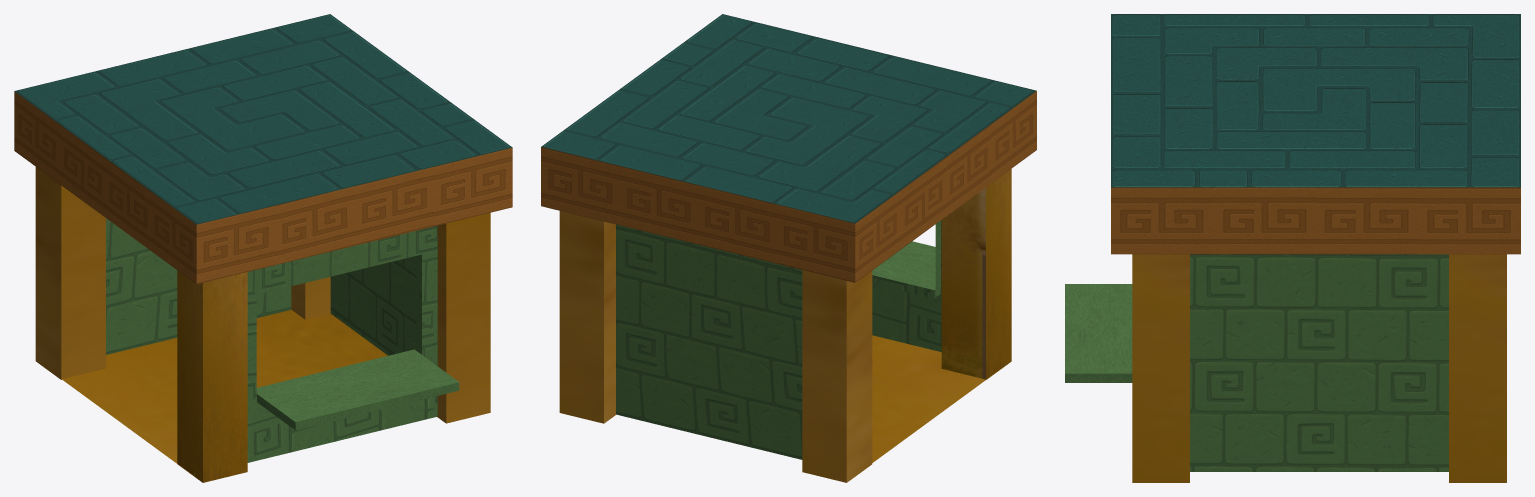
Rendered from es_Puesto.obj.
3 views of the same model, side by side, from view 1: azimuth 30°, elevation 25°; view 2: azimuth 150°, elevation 25°; view 3: azimuth 270°, elevation 25° (orthographic). The views are drawn at different scales.
Visible parts, largest first — view 1: small_cabin_house; view 2: small_cabin_house; view 3: small_cabin_house.
Part boxes in pixels (bbox=[...]): small_cabin_house: bbox=[14, 14, 512, 482]; small_cabin_house: bbox=[541, 14, 1036, 482]; small_cabin_house: bbox=[1065, 14, 1520, 482].
Bounding box in the file's own units: 9.99 × 8.13 × 11.11.
Materials: 4 (4 with a texture image).
